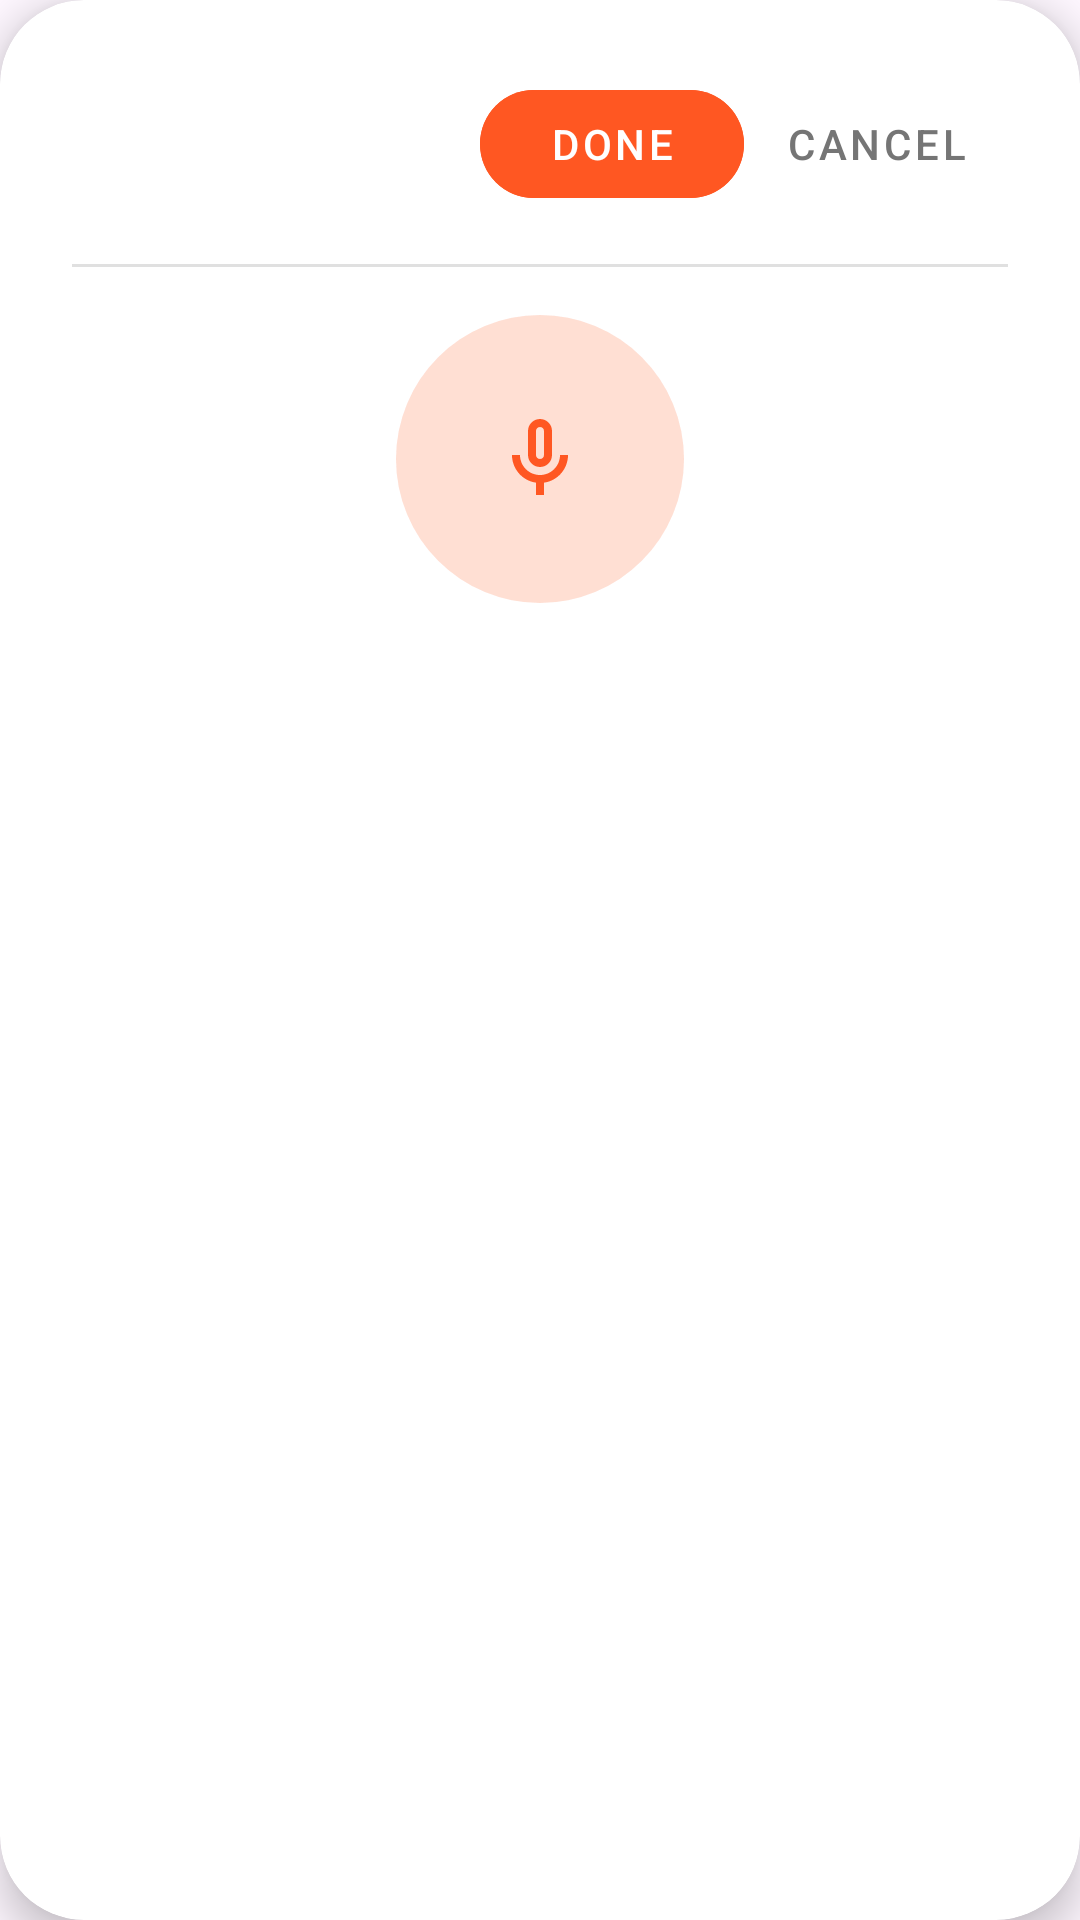

Locate icon controls on the screen. Image size 1080 x 1920, boxes as (x1, y1, x2, y2).
mic: (512, 419, 568, 495)
